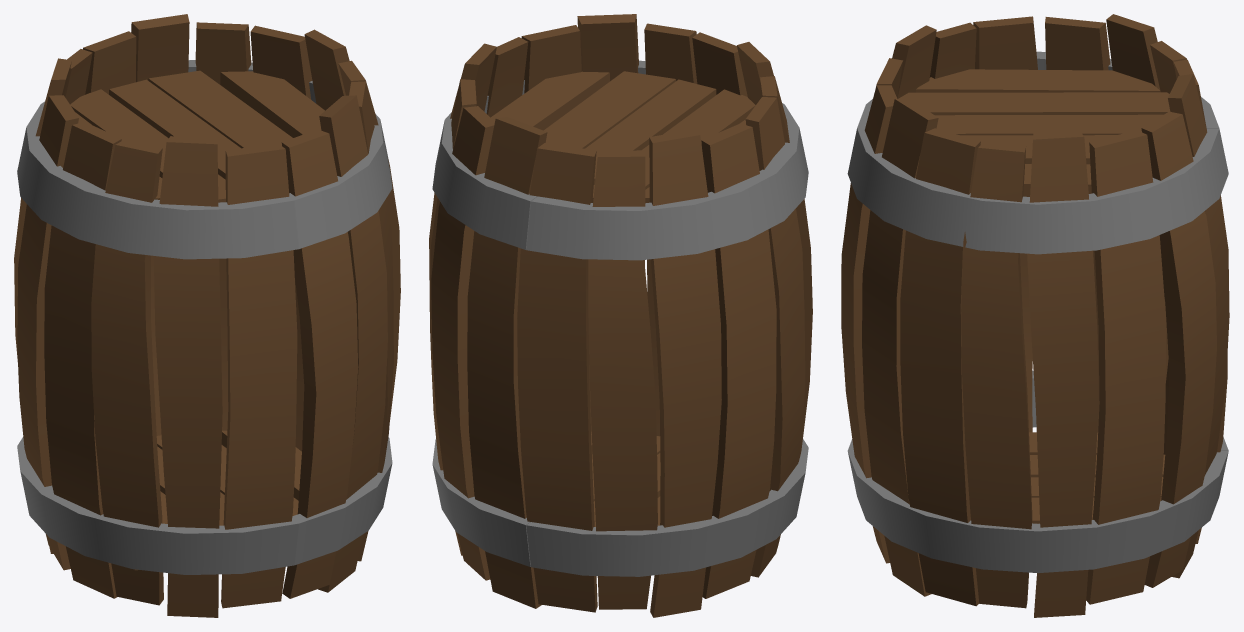
The model's file is SM_barrel.fbx.
The picture shows the model from 3 angles, left to right: view 1: azimuth 30°, elevation 25°; view 2: azimuth 150°, elevation 25°; view 3: azimuth 270°, elevation 25°; orthographic projection.
Visible parts, largest first — view 1: Box168; view 2: Box168; view 3: Box168.
Part boxes in pixels (x1=…): Box168: x1=14, y1=14, x2=400, y2=617; Box168: x1=429, y1=14, x2=812, y2=617; Box168: x1=841, y1=14, x2=1229, y2=617.
Bounding box in the file's own units: 31.95 × 43.26 × 31.78.
